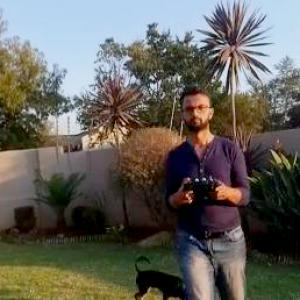follow: (165, 73, 255, 299)
null: (126, 253, 196, 299)
